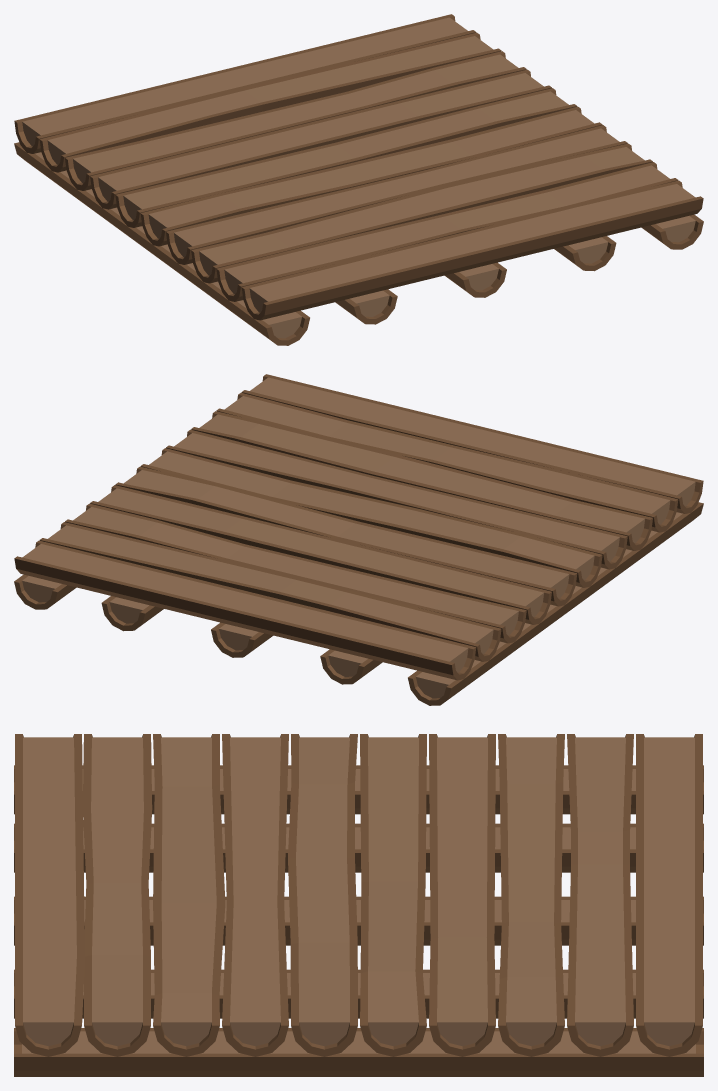
File: mesh_wood_floor.fbx
The picture shows the model from 3 angles, top to bottom: view 1: azimuth 30°, elevation 25°; view 2: azimuth 150°, elevation 25°; view 3: azimuth 270°, elevation 25°; orthographic projection. The views are drawn at different scales.
Parts seen in each view (by area): view 1: mesh_wood_floor; view 2: mesh_wood_floor; view 3: mesh_wood_floor.
Boxes of the visible parts, box(x1,y1,x2,y2) form: mesh_wood_floor: box(14, 14, 703, 345); mesh_wood_floor: box(14, 374, 703, 705); mesh_wood_floor: box(14, 734, 703, 1076).
Bounding box in the file's own units: 2 × 0.2119 × 2.
